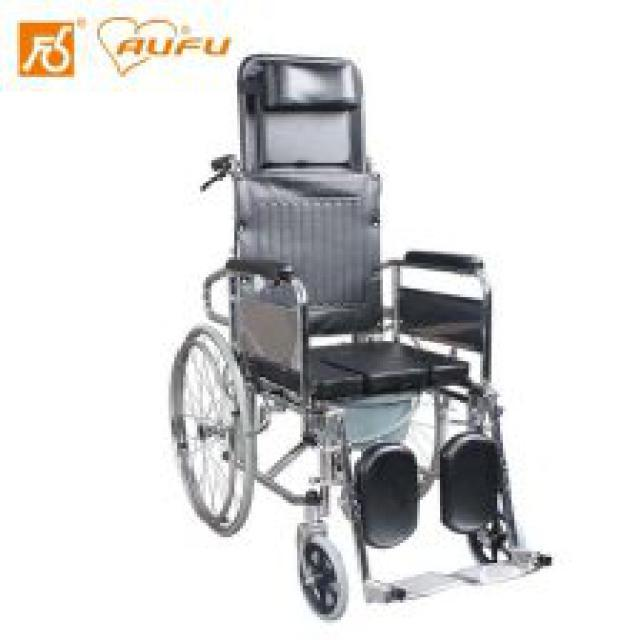wheelchair: (165, 45, 558, 620)
